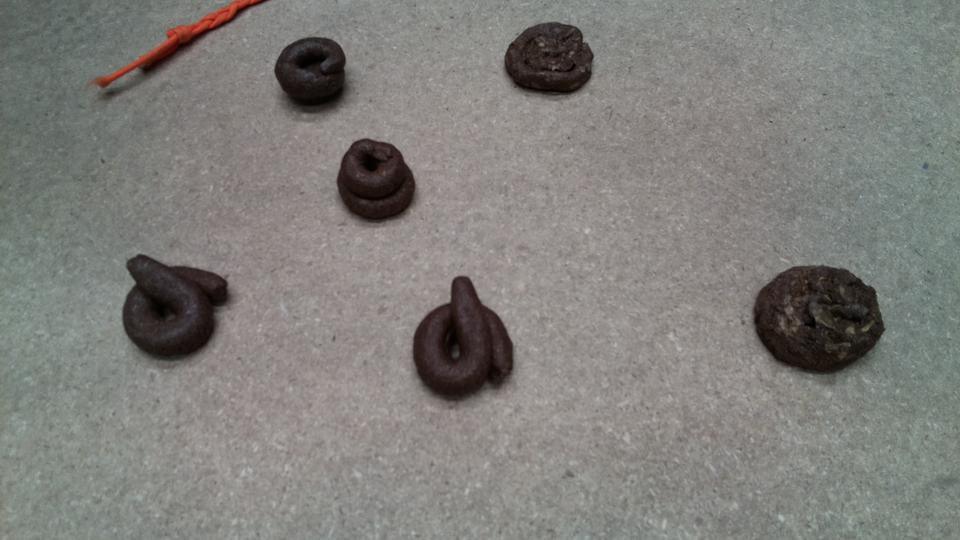poop: (750, 261, 887, 377), (409, 271, 521, 404), (118, 253, 233, 364), (333, 134, 418, 228), (501, 20, 597, 98), (272, 34, 350, 112)
rope: (91, 1, 263, 96)
